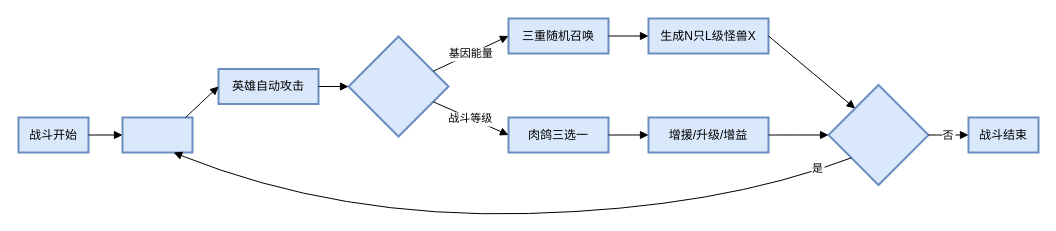
The diagram is 1056 pixels wide and 231 high, and some of its shapes have lost their labels. Each missing label, with the centre of its shape:
"敌人进攻" goes at (x=157, y=134).
"英雄存活？" goes at (x=878, y=135).
"资源监控" goes at (x=398, y=86).
